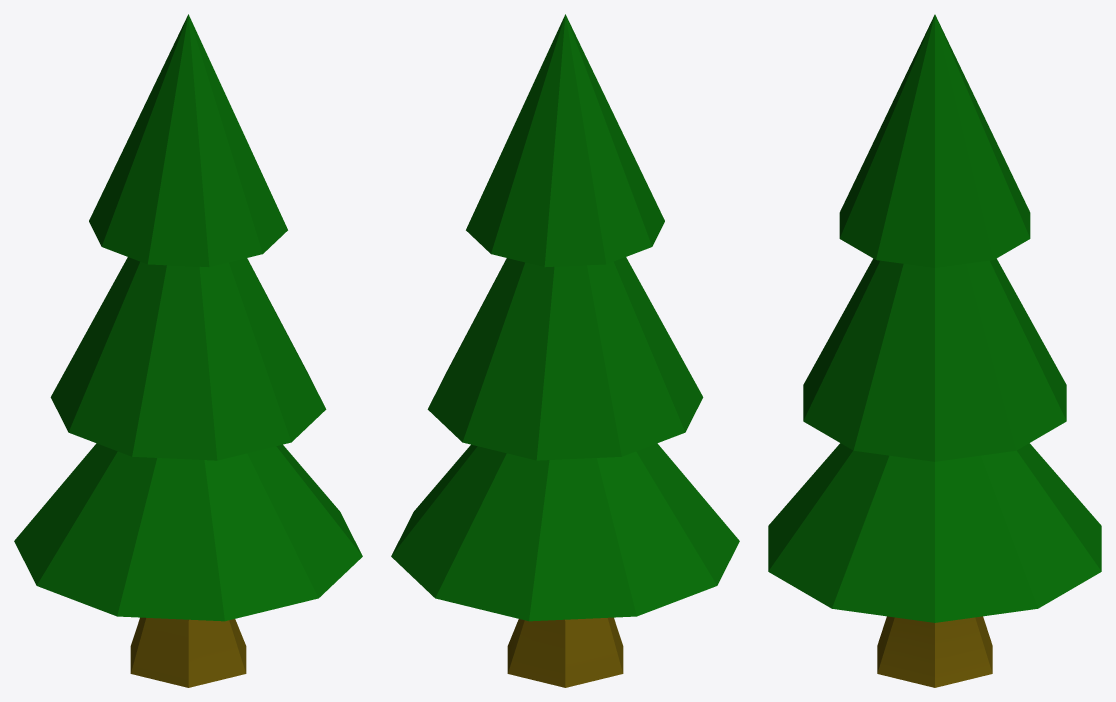
Rendered from Tree 001.fbx.
The picture shows the model from 3 angles, left to right: view 1: azimuth 30°, elevation 25°; view 2: azimuth 150°, elevation 25°; view 3: azimuth 270°, elevation 25°; orthographic projection.
Parts seen in each view (by area): view 1: polySurface2, polySurface1; view 2: polySurface2, polySurface1; view 3: polySurface2, polySurface1.
Part boxes in pixels (x1=…): polySurface2: x1=14, y1=14, x2=362, y2=621; polySurface1: x1=130, y1=617, x2=246, y2=687; polySurface2: x1=391, y1=14, x2=739, y2=621; polySurface1: x1=507, y1=617, x2=623, y2=687; polySurface2: x1=768, y1=14, x2=1101, y2=622; polySurface1: x1=877, y1=616, x2=992, y2=687.
Size of the model in its own units: 2 by 4.06 by 1.9.
